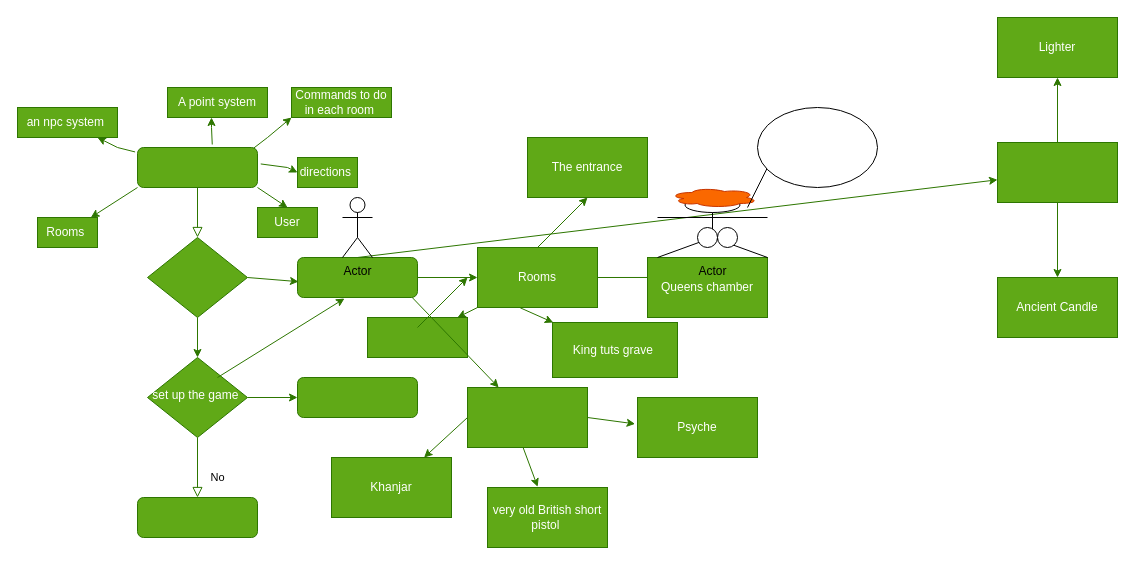
The diagram is 1135 pixels wide and 565 high, and some of its shapes have lost their labels. Here are the shapes that lost their labels. From the top down, the box of each, then its label:
(136, 146, 258, 188): we have to first intiate multiple things
(756, 106, 878, 188): You thought I was feeling you????
(996, 142, 1118, 202): Items
(146, 236, 248, 318): find a theme
(296, 256, 418, 298): the pyramids
(366, 316, 468, 358): underground tunnel
(296, 376, 418, 418): think of weapons monsters and npcs for the game
(466, 386, 588, 448): Weapons
(136, 496, 258, 538): the game is done
